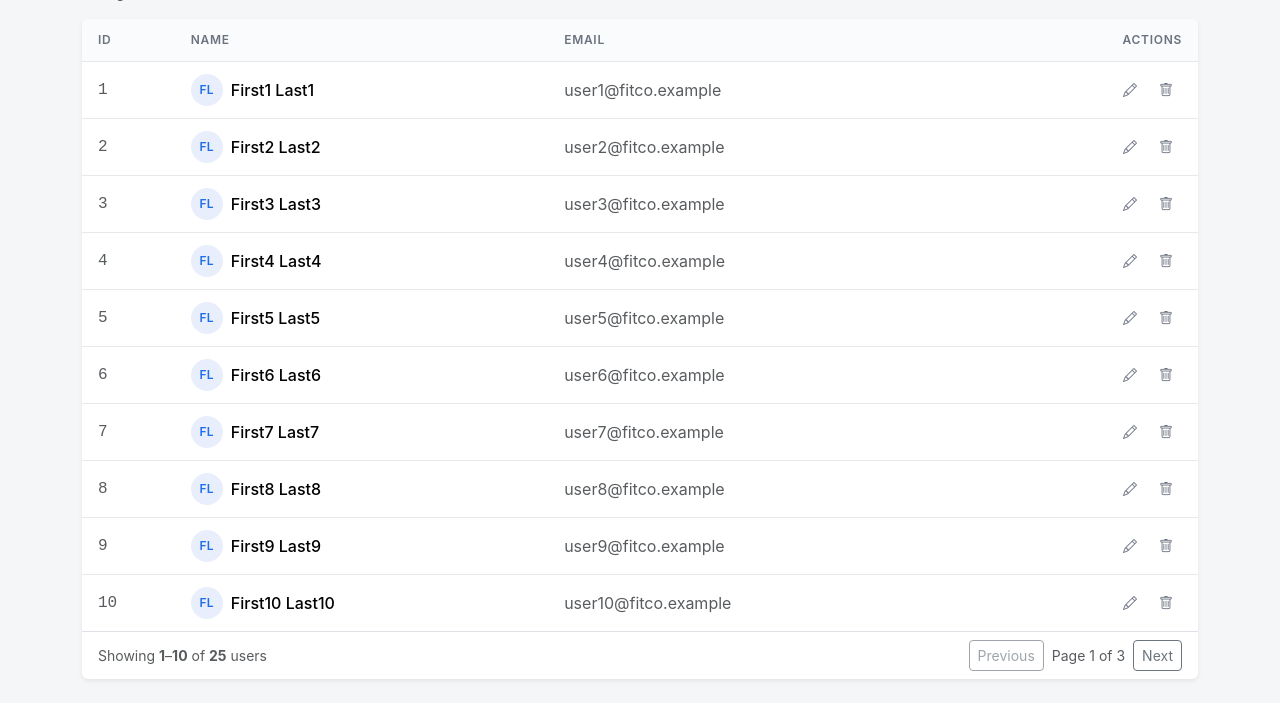
Test case: user list › pages through results instead of loading the whole table
(page scrolled)
Expected: the text "First1 Last1" is shown, [231,78,314,102]
Expected: the text "Page 1 of 3" is shown, [1052,645,1125,666]
Click the button "Next".
click(1158, 655)  # box [1133,640,1182,671]
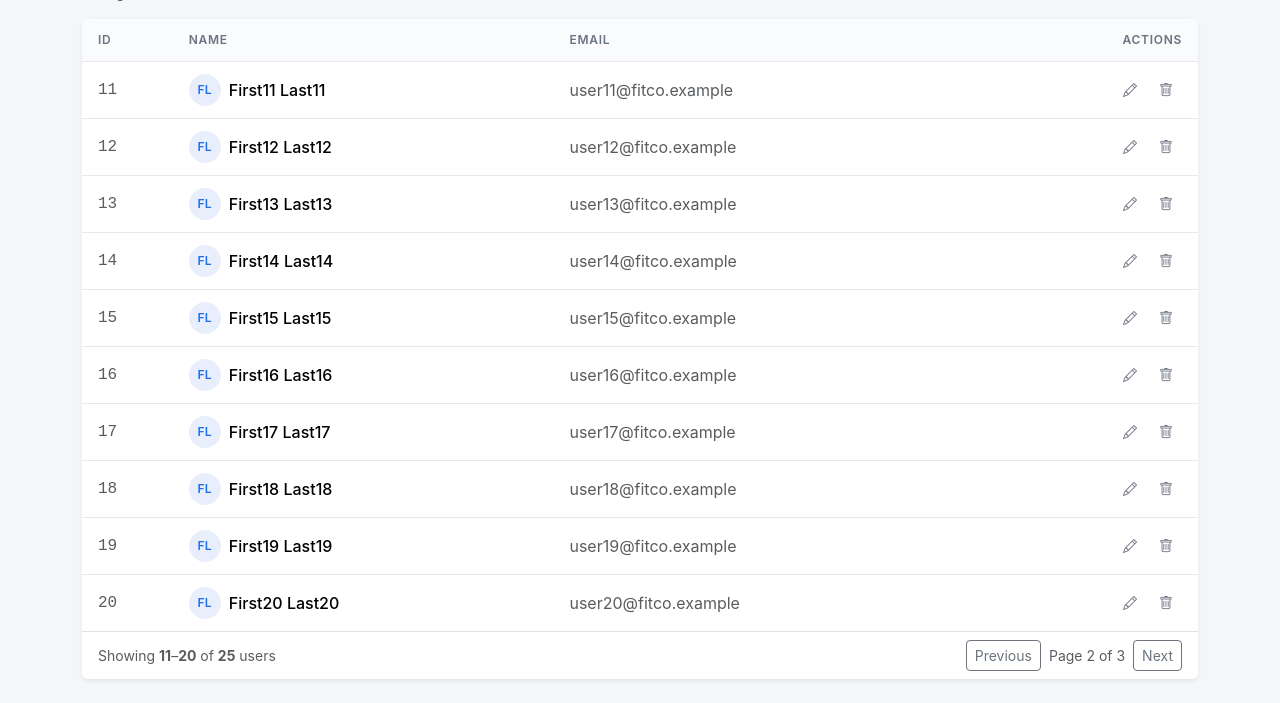
Expected: the text "First11 Last11" is shown, [229,78,326,102]
Expected: the text "Page 2 of 3" is shown, [1049,645,1125,666]
